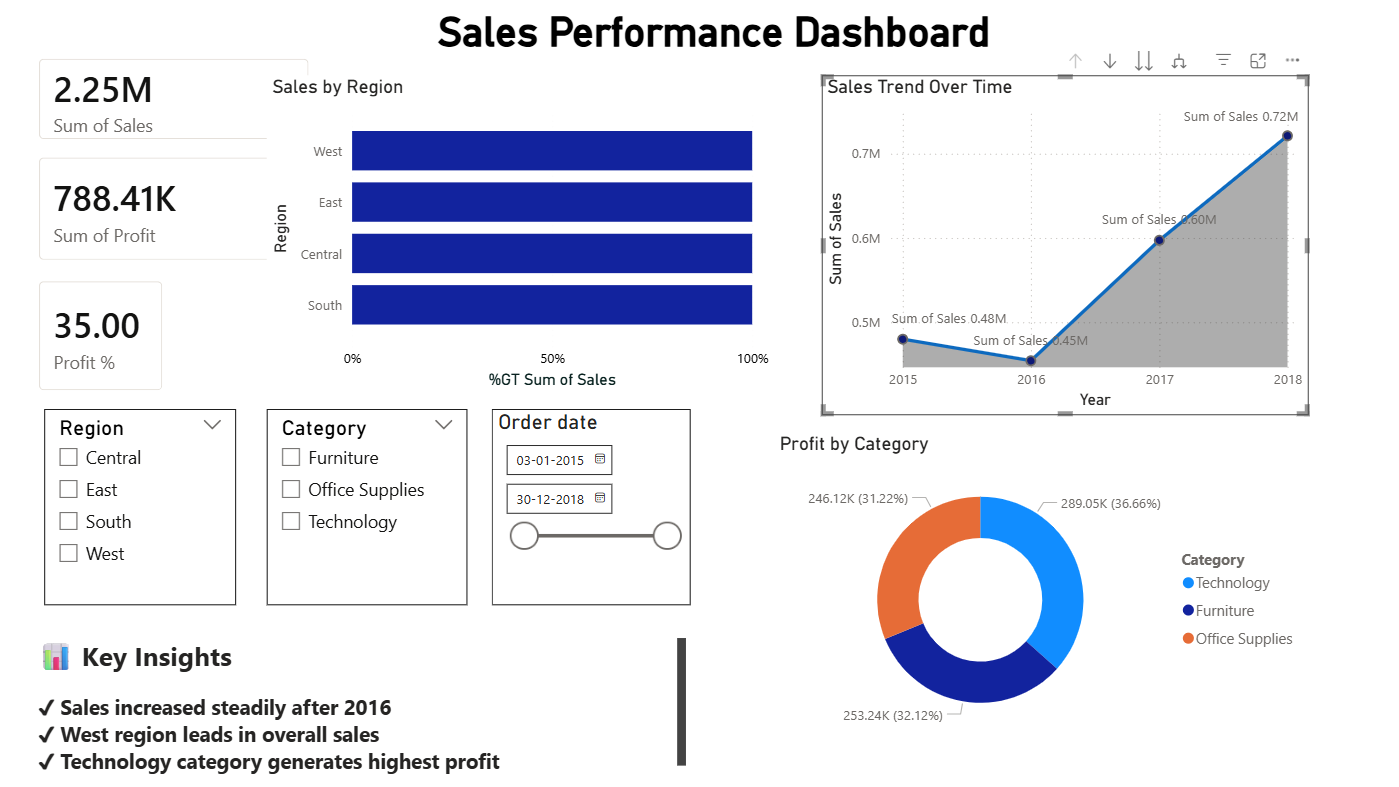

The page's visual inventory and layout, read from the dashboard file:
{"tool":"powerbi","page":{"name":"Page 1","canvas":[1280,720],"ordinal":0},"visuals":[{"type":"cardVisual","fields":{"Data":["Sum(train.Sales)"]},"box":[20.6,37,279.9,107],"z":0},{"type":"cardVisual","fields":{"Data":["Sum(train.Profit)"]},"box":[20.6,127.6,279.9,127.6],"z":1000},{"type":"cardVisual","fields":{"Data":["train.Profit %"]},"box":[20.6,240.1,146.8,133.1],"z":2000},{"type":"lineChart","title":"Sales Trend Over Time","fields":{"Category":["train.Order Date.Variation.Date Hierarchy.Year","train.Order Date.Variation.Date Hierarchy.Quarter","train.Order Date.Variation.Date Hierarchy.Month","train.Order Date.Variation.Date Hierarchy.Day"],"Y":["Sum(train.Sales)"]},"box":[748.9,69.7,441.6,308.5],"z":3000},{"type":"hundredPercentStackedBarChart","title":"Sales by Region","fields":{"Category":["train.Region"],"Y":["Sum(train.Sales)"]},"box":[243.8,69.7,461.5,289.8],"z":4000},{"type":"donutChart","title":"Profit by Category","fields":{"Category":["train.Category"],"Y":["Sum(train.Profit)"]},"box":[705.3,394.3,485.1,284.9],"z":5000},{"type":"slicer","fields":{"Values":["train.Region"]},"box":[42.5,373.2,174.3,178.4],"z":6000},{"type":"slicer","fields":{"Values":["train.Category"]},"box":[244.3,373.2,182.5,178.4],"z":7000},{"type":"slicer","title":"Order date ","fields":{"Values":["train.Order Date"]},"box":[448.7,373.2,181.1,178.4],"z":8000},{"type":"textbox","box":[31.6,576.3,598.3,144.1],"z":9000},{"type":"actionButton","title":"Sales Performance Dashboard","box":[398.1,7.5,506.3,39.8],"z":9001}]}

Visuals, with their boxes in screenshot pixels (x1, y1, x2, y2), scaled from the page's 1280x720 canvas onto the 1399x787 screenshot:
cardVisual - Sum(train.Sales): l=23, t=40, r=328, b=157
cardVisual - Sum(train.Profit): l=23, t=139, r=328, b=279
cardVisual - train.Profit %: l=23, t=262, r=183, b=408
"Sales Trend Over Time" lineChart: l=819, t=76, r=1301, b=413
"Sales by Region" hundredPercentStackedBarChart: l=266, t=76, r=771, b=393
"Profit by Category" donutChart: l=771, t=431, r=1301, b=742
slicer - train.Region: l=46, t=408, r=237, b=603
slicer - train.Category: l=267, t=408, r=466, b=603
"Order date " slicer: l=490, t=408, r=688, b=603
textbox: l=35, t=630, r=688, b=786
"Sales Performance Dashboard" actionButton: l=435, t=8, r=988, b=52
